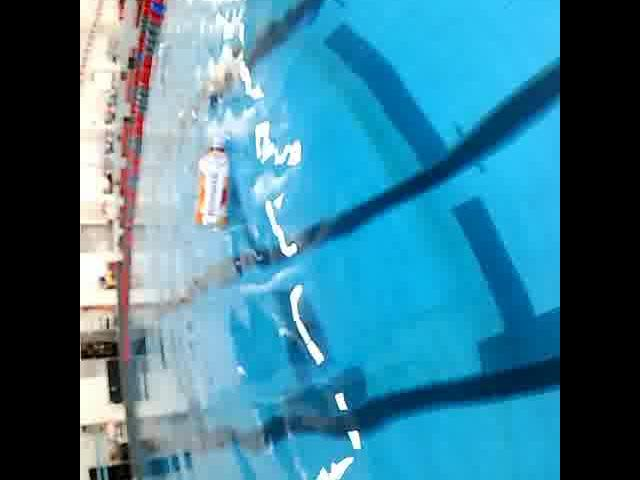Bottle: (186, 126, 238, 232)
